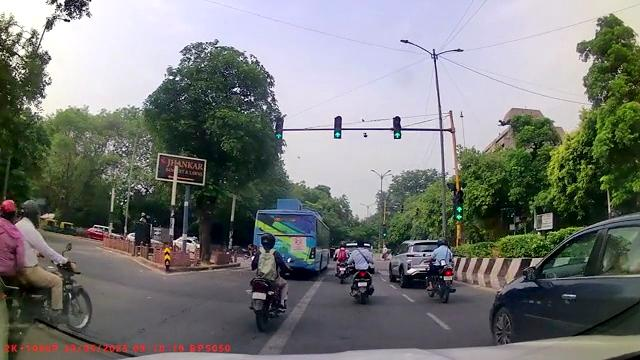motorcycle_with_helmet: (248, 232, 290, 332), (425, 237, 456, 303)
motorcycle_without_helmet: (348, 240, 376, 304)
passenger_with_helmet: (1, 197, 93, 335)
